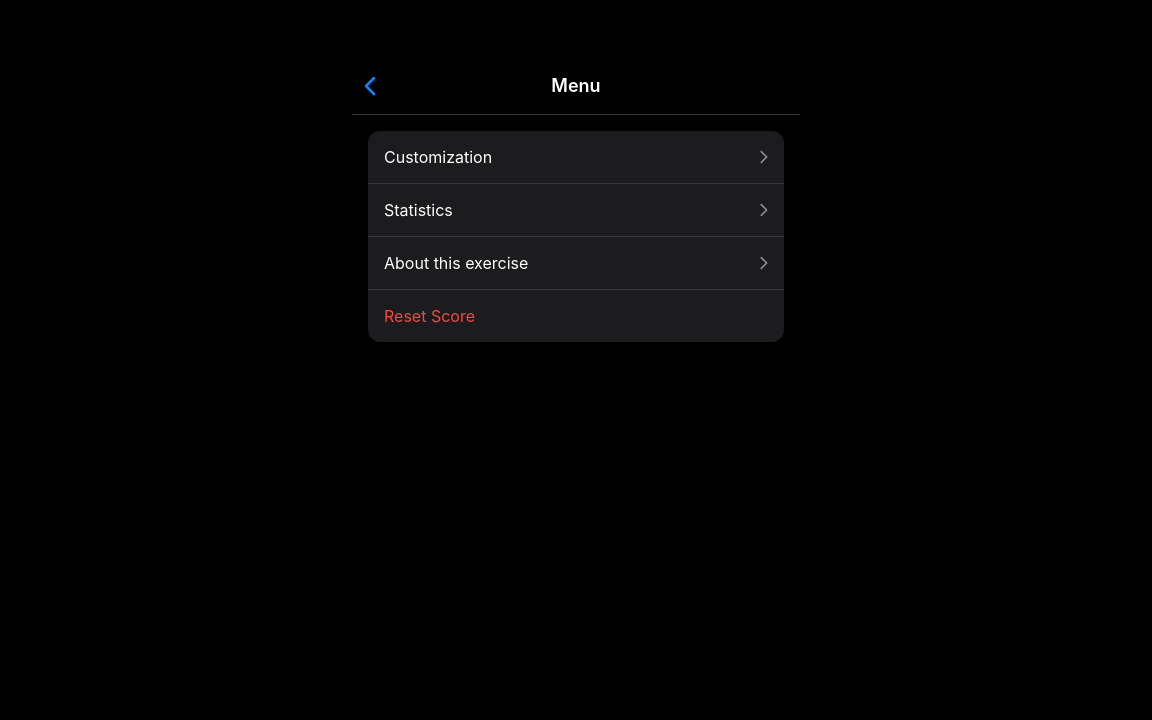
Scenario: customize screen › warns when no question can be generated at all
Click the button "Customization". click: (438, 157)
box: [368, 131, 784, 183]
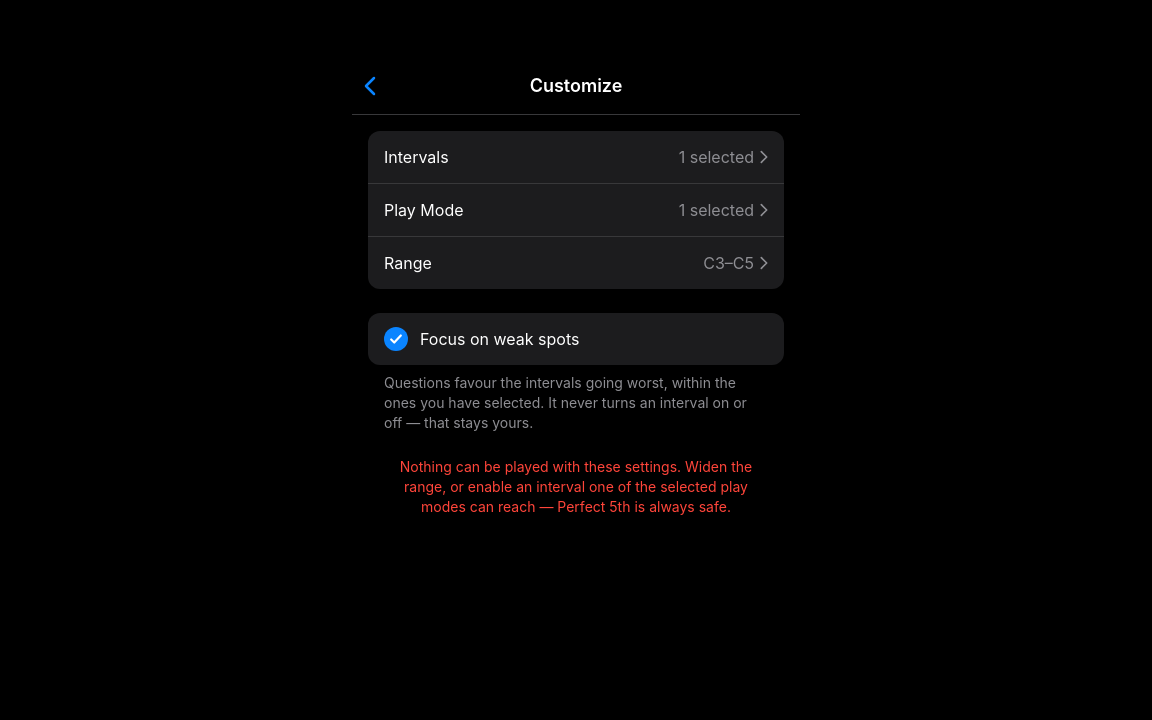
Check: the text "Nothing can be played" is shown, box [400, 458, 752, 515]
